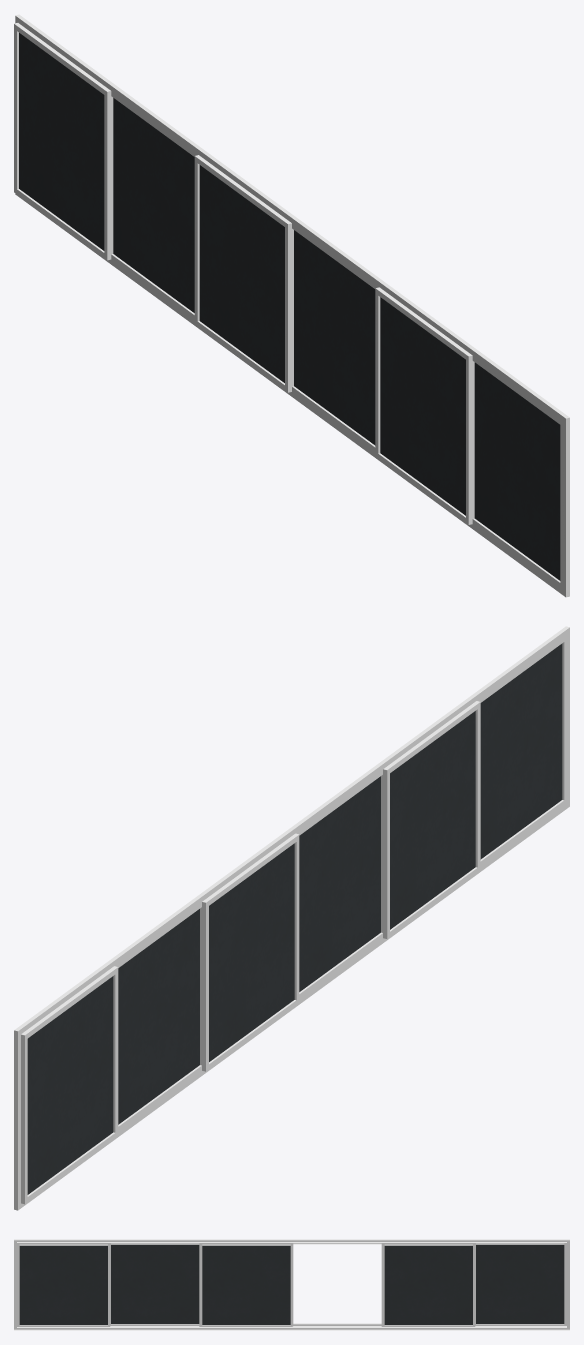
File: SM06_Building_Window_01.fbx
3 renders of one model, top to bottom at view 1: azimuth 30°, elevation 25°; view 2: azimuth 150°, elevation 25°; view 3: azimuth 270°, elevation 25°, orthographic. The views are drawn at different scales.
Parts seen in each view (by area): view 1: SM06_Building_Window_01; view 2: SM06_Building_Window_01; view 3: SM06_Building_Window_01.
Boxes of the visible parts, x1,y1,x2,y2 form: SM06_Building_Window_01: (14, 14, 569, 597); SM06_Building_Window_01: (14, 626, 569, 1210); SM06_Building_Window_01: (14, 1239, 569, 1330).
Bounding box in the file's own units: 0.1 × 2.12 × 11.85.
